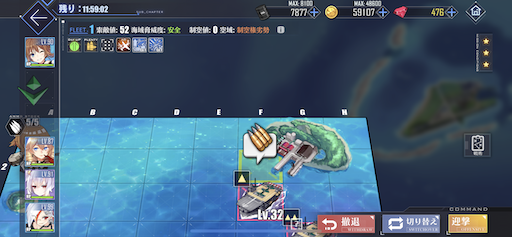lv1: (233, 171, 284, 219)
